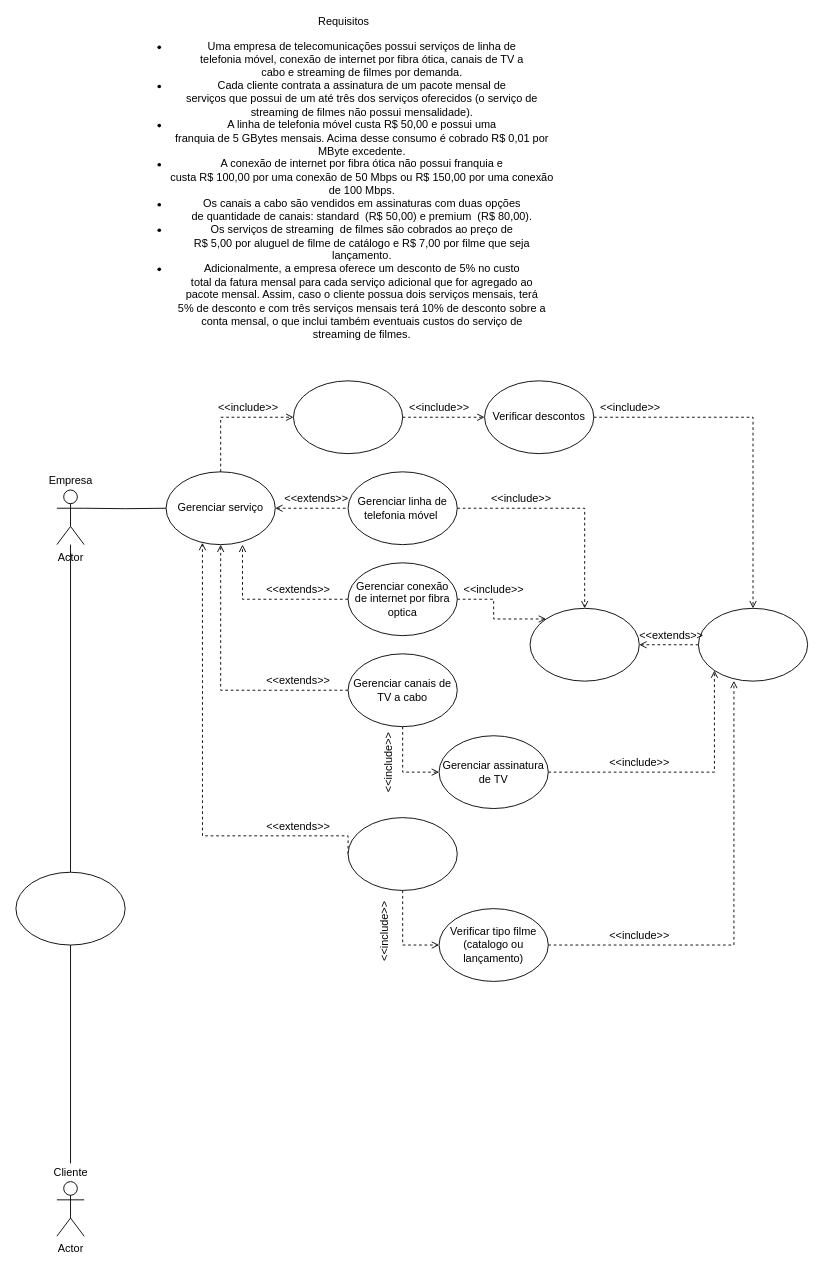
This 824x1270 diagram has some shape labels left out. Each missing label, with the centre of its shape:
"Contratar serviço" goes at point (70, 908).
"Gerenciar Assinatura" goes at point (348, 417).
"Gerenciar streaming de filmes por demanda" goes at point (402, 853).
"Incluir valor na fatura" goes at point (753, 644).
"Verificar taxa adicional" goes at point (584, 644).
